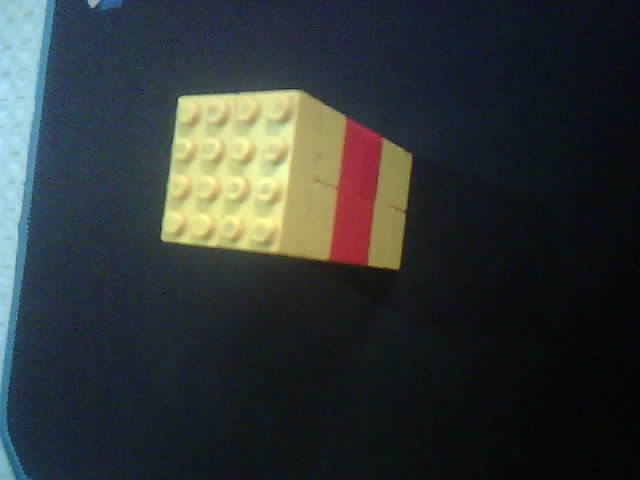lego: (159, 87, 412, 274)
